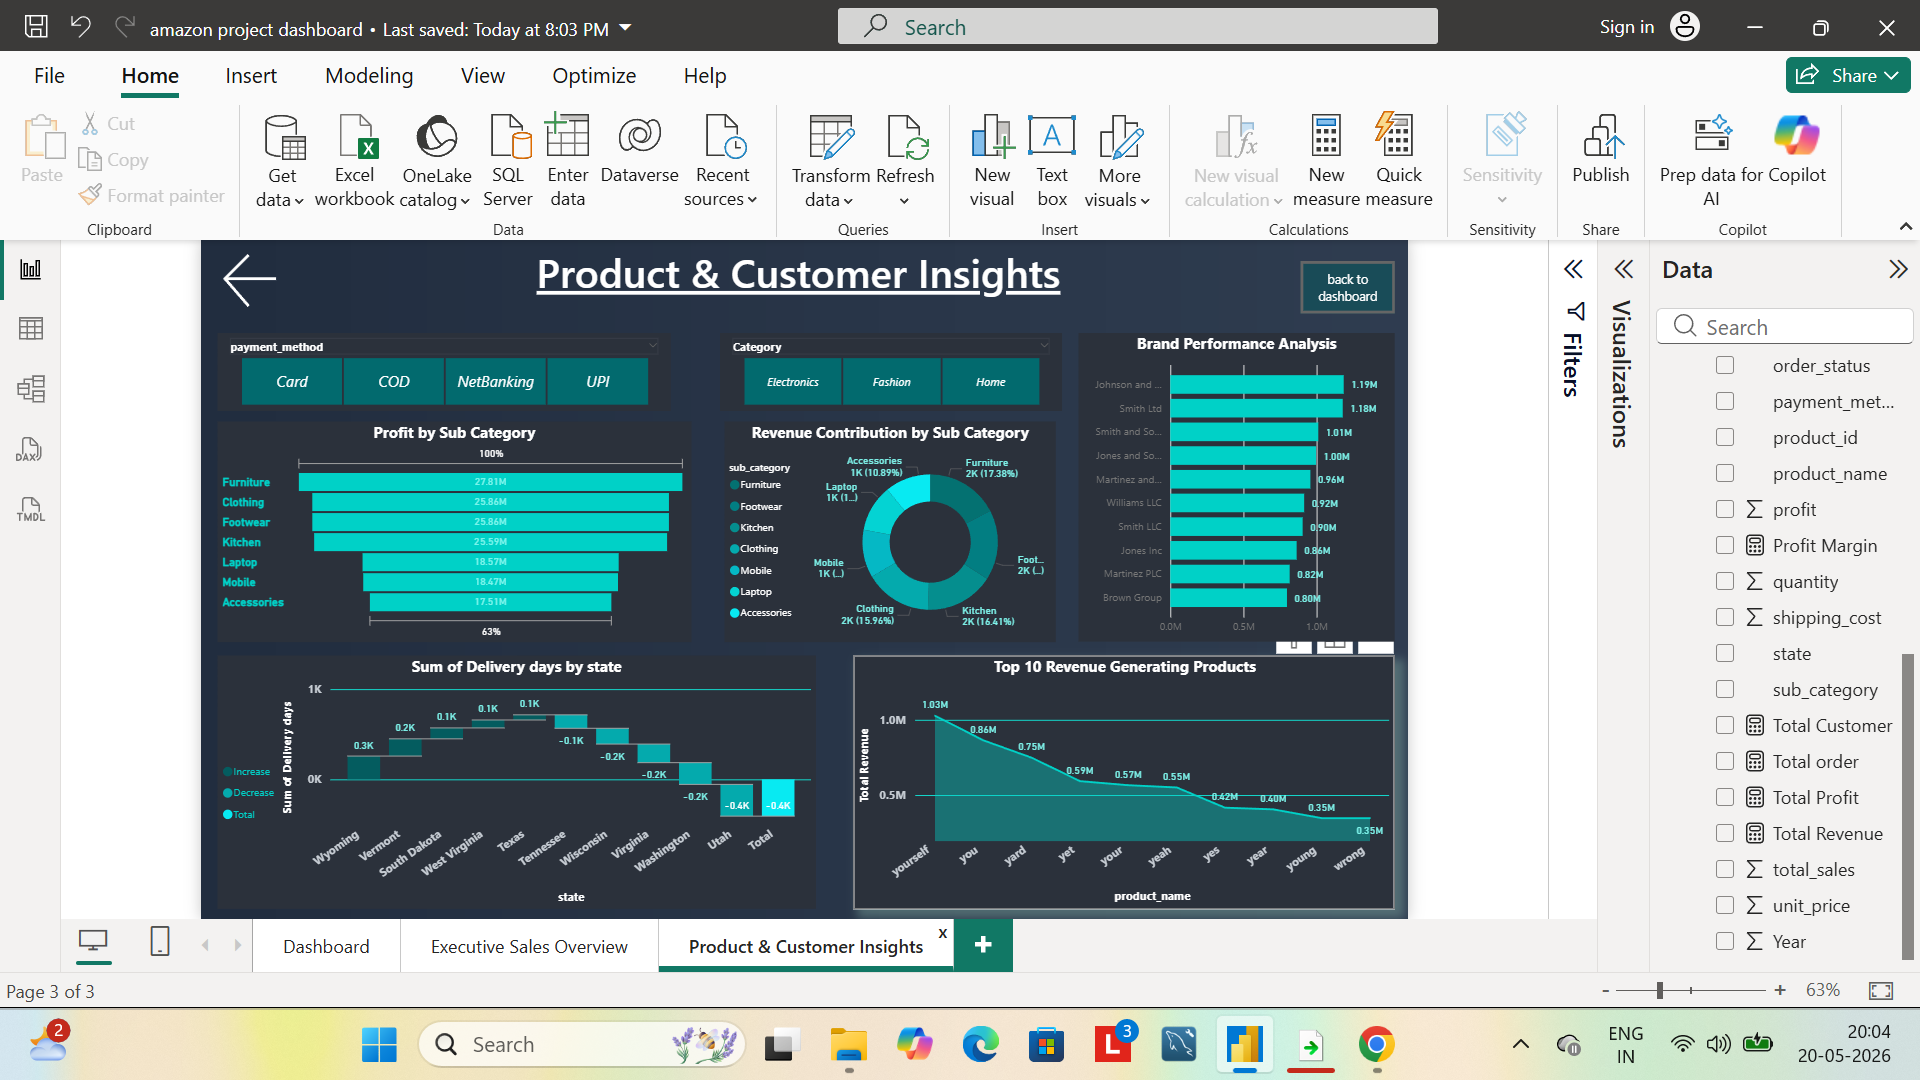

This screenshot's page, from the dashboard's own definition file:
{"tool":"powerbi","page":{"name":"Product & Customer Insights","canvas":[1280,720],"ordinal":2},"visuals":[{"type":"areaChart","title":"Top 10 Revenue Generating Products","fields":{"Category":["cleaned_amazon_sales.product_name"],"Y":["cleaned_amazon_sales.Total Revenue"]},"box":[691.9,440.6,574.2,268.8],"z":0},{"type":"textbox","box":[117.2,0,1031.8,85],"z":1000},{"type":"clusteredBarChart","title":"Brand Performance Analysis","fields":{"Category":["cleaned_amazon_sales.brand"],"Y":["cleaned_amazon_sales.Total Revenue"]},"box":[930.5,98.6,335.6,327.7],"z":2000},{"type":"funnel","title":"Profit by Sub Category","fields":{"Category":["cleaned_amazon_sales.sub_category"],"Y":["cleaned_amazon_sales.Total Profit"]},"box":[17.5,192.5,502.6,233.8],"z":3000},{"type":"waterfallChart","fields":{"Category":["cleaned_amazon_sales.state"],"Y":["Sum(cleaned_amazon_sales.Delivery days)"]},"box":[17.5,440.6,634.7,268.8],"z":4000},{"type":"donutChart","title":"Revenue Contribution by Sub Category","fields":{"Y":["cleaned_amazon_sales.Total order"],"Category":["cleaned_amazon_sales.sub_category"]},"box":[555.1,192.5,351.5,233.8],"z":5000},{"type":"actionButton","box":[17.5,8,100.2,70],"z":6000},{"type":"actionButton","box":[1165.9,22.3,100.2,55.7],"z":7000},{"type":"slicer","fields":{"Values":["cleaned_amazon_sales.payment_method"]},"box":[17.5,98.6,480.4,82.7],"z":8000},{"type":"slicer","fields":{"Values":["cleaned_amazon_sales.category"]},"box":[550.4,98.6,362.7,82.7],"z":10000}]}

Visuals, with their boxes on the page's 1280x720 design canvas (x1, y1, x2, y2). These are canvas units, not pixel positions in the 1920x1080 screenshot, which may show the page scaled, cropped or inside an application window:
"Top 10 Revenue Generating Products" areaChart: {"x1": 692, "y1": 441, "x2": 1266, "y2": 709}
textbox: {"x1": 117, "y1": 0, "x2": 1149, "y2": 85}
"Brand Performance Analysis" clusteredBarChart: {"x1": 930, "y1": 99, "x2": 1266, "y2": 426}
"Profit by Sub Category" funnel: {"x1": 18, "y1": 192, "x2": 520, "y2": 426}
waterfallChart - cleaned_amazon_sales.state x Sum(cleaned_amazon_sales.Delivery days): {"x1": 18, "y1": 441, "x2": 652, "y2": 709}
"Revenue Contribution by Sub Category" donutChart: {"x1": 555, "y1": 192, "x2": 907, "y2": 426}
actionButton: {"x1": 18, "y1": 8, "x2": 118, "y2": 78}
actionButton: {"x1": 1166, "y1": 22, "x2": 1266, "y2": 78}
slicer - cleaned_amazon_sales.payment_method: {"x1": 18, "y1": 99, "x2": 498, "y2": 181}
slicer - cleaned_amazon_sales.category: {"x1": 550, "y1": 99, "x2": 913, "y2": 181}
